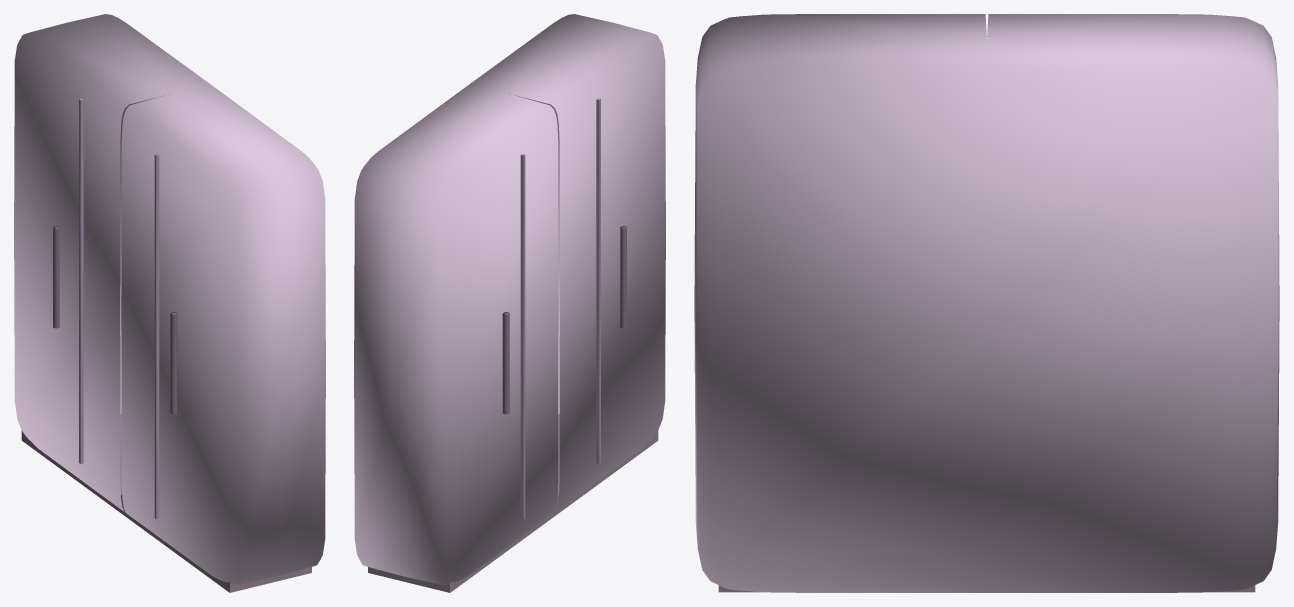
Rendered from wardrobe_2400x600.glb.
3 views of the same model, side by side, from view 1: azimuth 30°, elevation 25°; view 2: azimuth 150°, elevation 25°; view 3: azimuth 270°, elevation 25° (orthographic). The views are drawn at different scales.
Visible parts, largest first — view 1: wardrobe_body_side_on, sliding_door_gap (×2), toe_kick, vertical_wardrobe_handle (×2); view 2: wardrobe_body_side_on, sliding_door_gap (×2), toe_kick, vertical_wardrobe_handle (×2); view 3: wardrobe_body_side_on.
Part boxes in pixels (left/top/right/bottom): wardrobe_body_side_on: left=14, top=14, right=325, bottom=585; sliding_door_gap (×2): left=79, top=98, right=159, bottom=519; toe_kick: left=21, top=414, right=311, bottom=592; vertical_wardrobe_handle (×2): left=53, top=226, right=177, bottom=414; wardrobe_body_side_on: left=354, top=14, right=665, bottom=585; sliding_door_gap (×2): left=520, top=98, right=600, bottom=519; toe_kick: left=368, top=414, right=658, bottom=592; vertical_wardrobe_handle (×2): left=502, top=226, right=626, bottom=414; wardrobe_body_side_on: left=694, top=14, right=1279, bottom=592.
Bounding box in the file's own units: 0.653 × 2.4 × 2.4.
